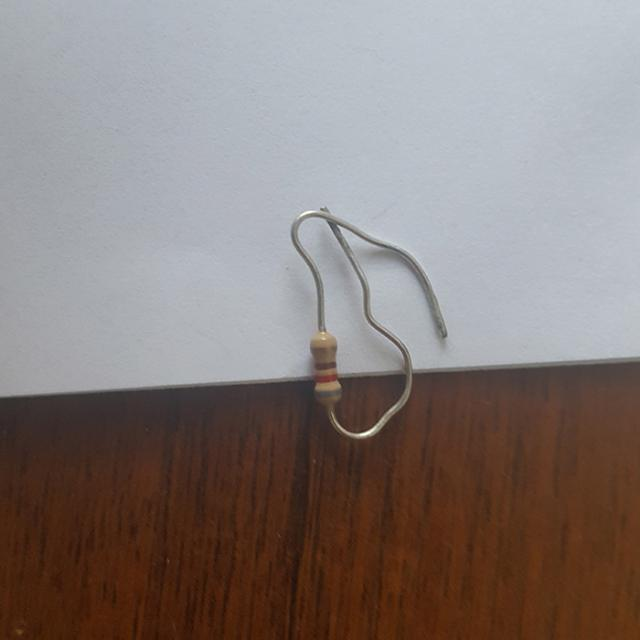brown: (315, 362, 335, 368)
gold: (312, 346, 336, 351)
grey: (315, 390, 342, 397)
red: (317, 375, 336, 382)
resistor: (301, 328, 356, 411)
